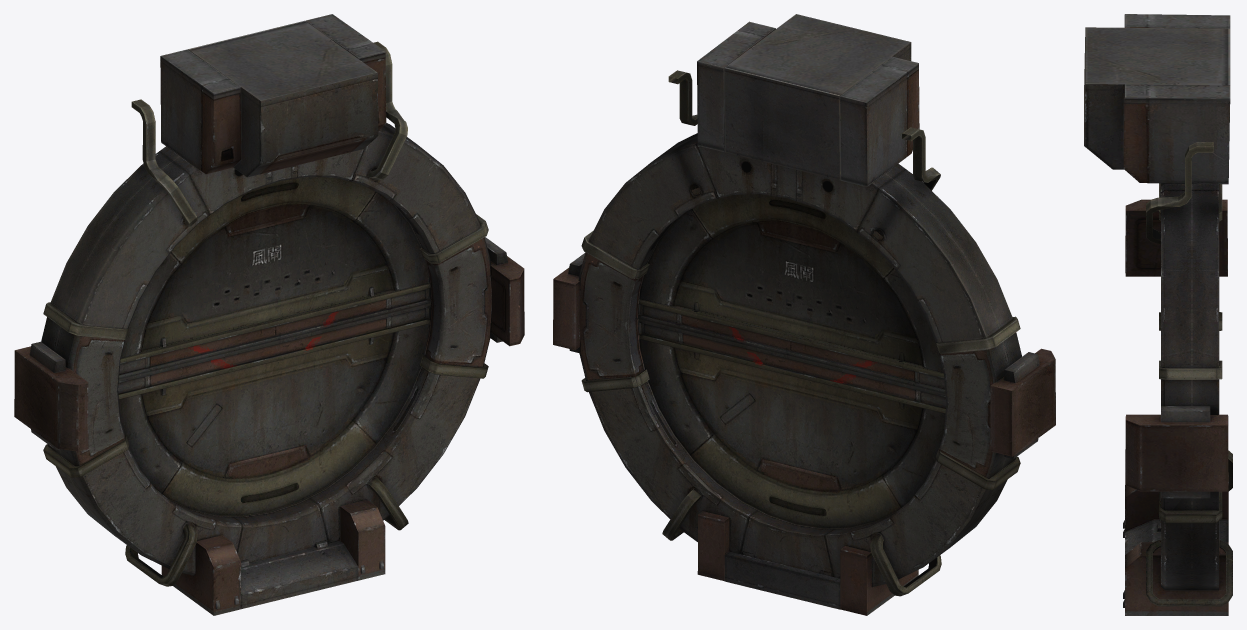
File: slidedoor_airlock.dae
The picture shows the model from 3 angles, left to right: view 1: azimuth 30°, elevation 25°; view 2: azimuth 150°, elevation 25°; view 3: azimuth 270°, elevation 25°; orthographic projection.
Visible parts, largest first — view 1: frame, door_bottom, door_top; view 2: frame, door_bottom, door_top; view 3: frame.
Boxes of the visible parts, <box> form: frame: <box>14,14,524,615</box>; door_bottom: <box>118,303,430,516</box>; door_top: <box>119,176,430,378</box>; frame: <box>553,14,1055,615</box>; door_bottom: <box>638,318,946,528</box>; door_top: <box>638,194,945,393</box>; frame: <box>1084,14,1232,615</box>.
Bounding box in the file's own units: 3.68 × 3.94 × 1.03.
3 materials, 3 textured.
